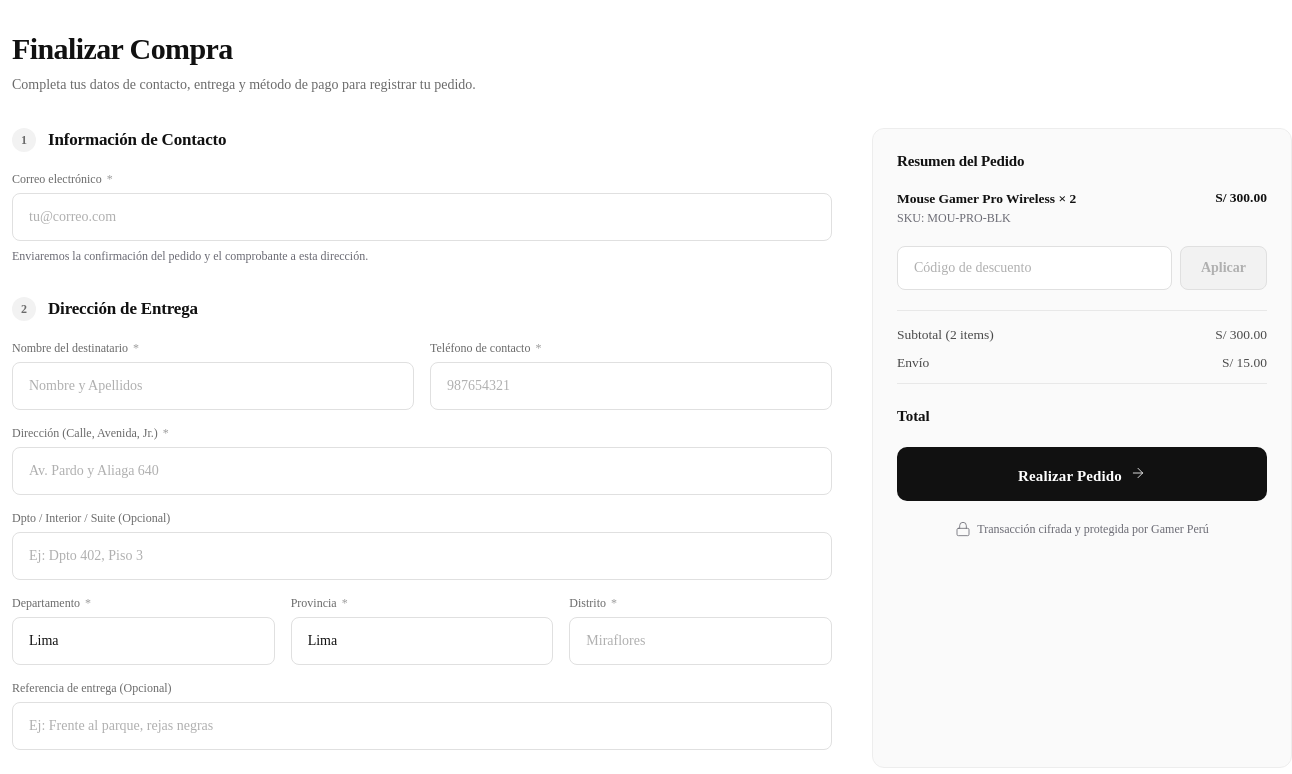
it: GP-018 / CHK6-BR3 — Explicit Selection & Fail-Closed Checkout Suite › 2. Validation & Submission Lifecycle › validates required fields client-side before invoking server action
Click the button with test id "checkout-submit-button". click: (1082, 474)
box: x1=897 y1=447 x2=1267 y2=501
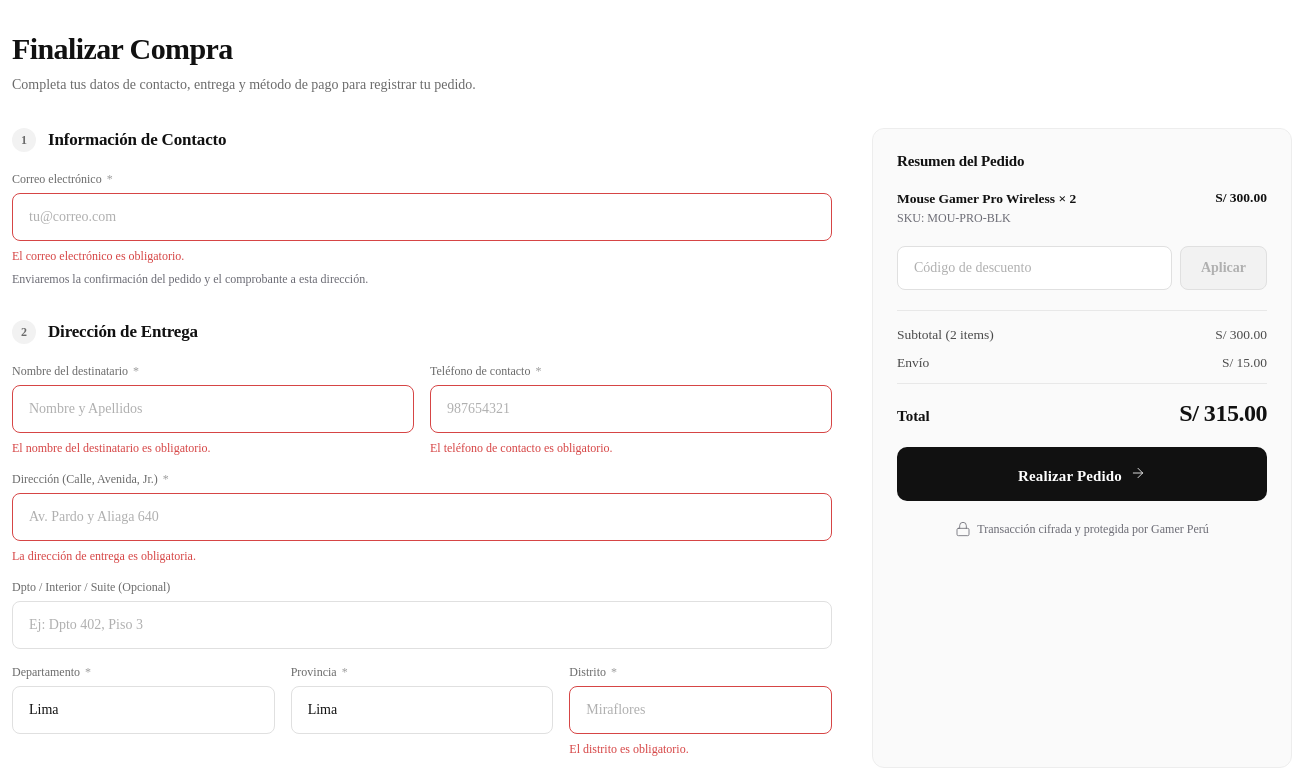
Expected: the text "El correo electrónico es obligatorio." is shown, x1=12 y1=249 x2=184 y2=263
Expected: the text "El nombre del destinatario es obligatorio." is shown, x1=12 y1=441 x2=211 y2=455
Expected: the text "El teléfono de contacto es obligatorio." is shown, x1=430 y1=441 x2=613 y2=455
